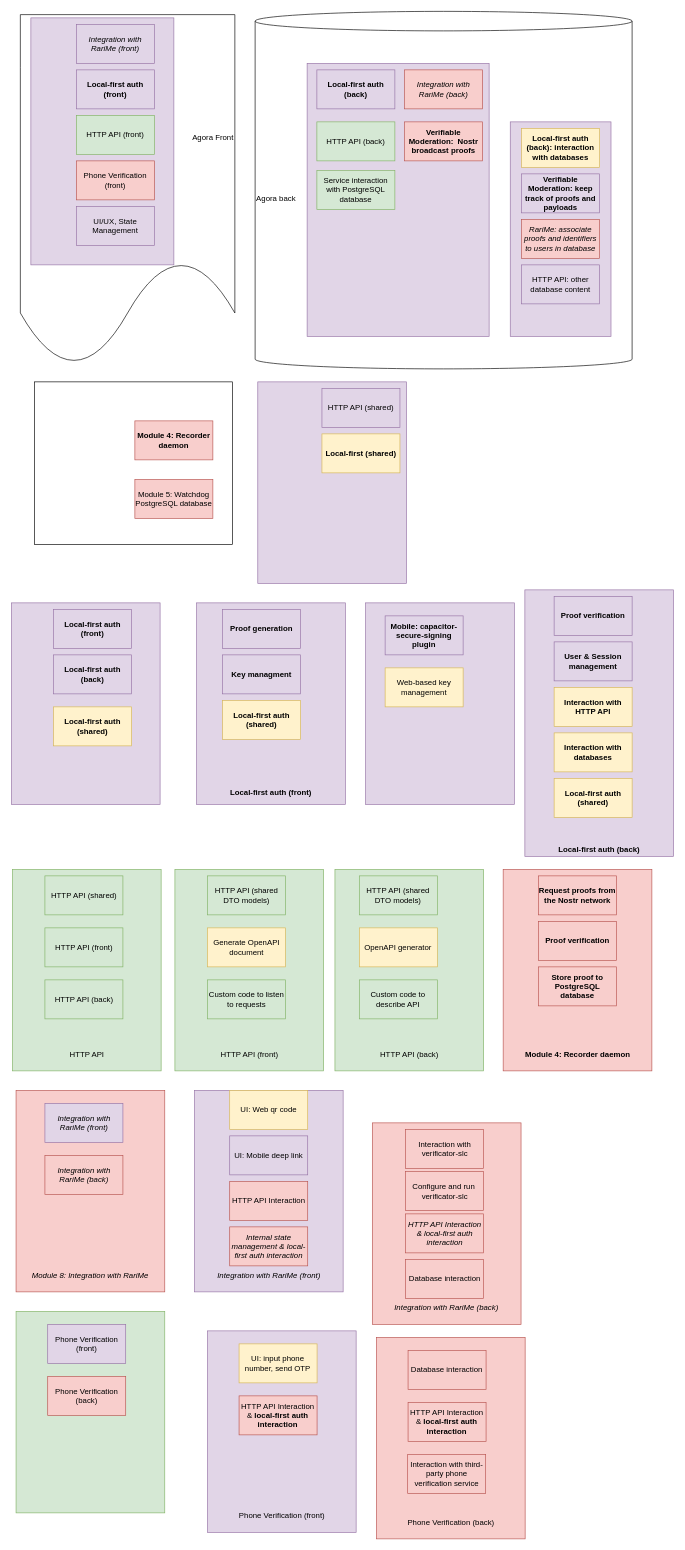
Some shapes in this 685 by 1550 pixel diagram are drawn without their labels. The box of each missing label's shape, as (x1, y1, x2, y2) in pixels:
Agora Watchdog Server: (34, 381, 232, 544)
Local-first auth (front): Key management: (365, 602, 514, 804)
Module 1: frontend application: (30, 17, 174, 265)
Module 2: backend application: (306, 63, 489, 336)
Module 3: PostgreSQL database: (510, 121, 611, 336)
Module 6: shared module: (257, 381, 407, 583)
Module 7: Local-first auth: (11, 602, 160, 804)
Module 9: Phone Verification: (15, 1311, 165, 1513)
